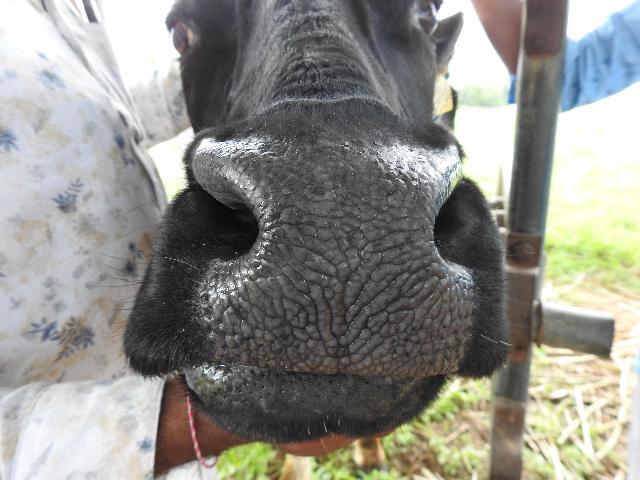Muzzle: (262, 148, 424, 366)
